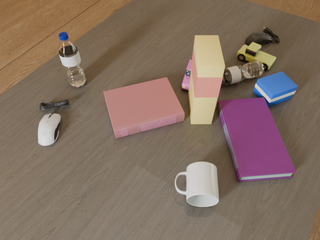book: (217, 98, 296, 182), (104, 77, 184, 138)
bottle: (58, 32, 86, 88), (221, 60, 265, 85)
box: (188, 36, 225, 124), (253, 72, 298, 107)
cup: (175, 162, 219, 207)
mouse: (38, 114, 61, 146), (246, 27, 280, 45)
toy_car: (237, 42, 276, 71), (181, 60, 192, 90)
